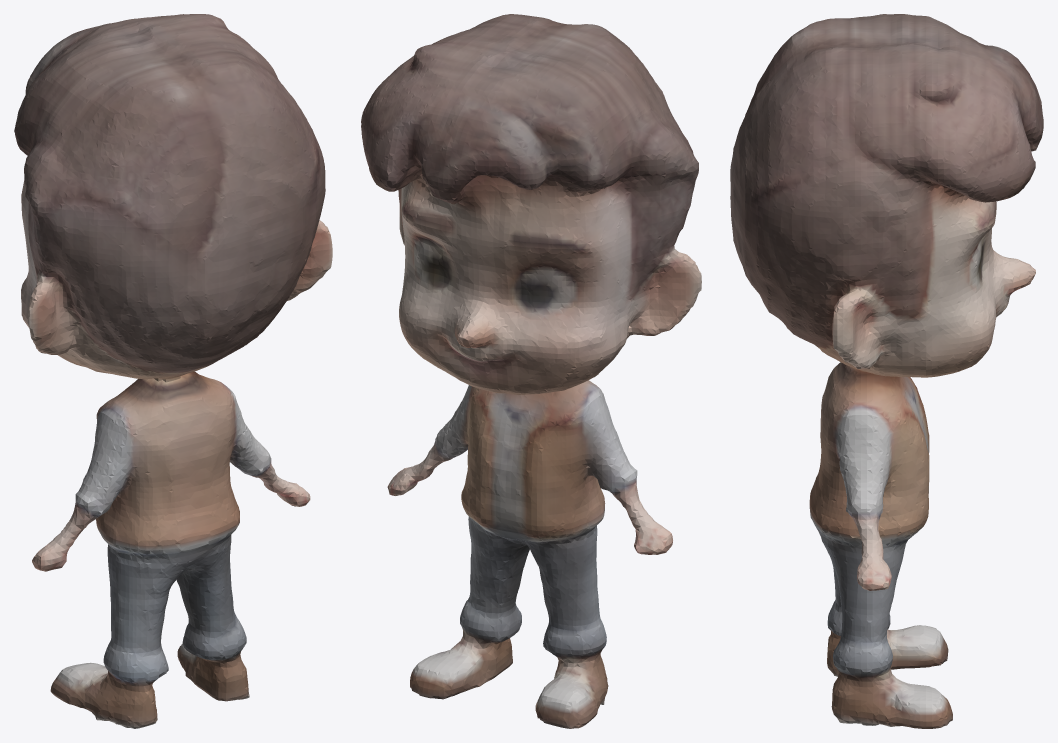
Rendered from 45Ll6iyTM9jp.png.glb.
The picture shows the model from 3 angles, left to right: view 1: azimuth 30°, elevation 25°; view 2: azimuth 150°, elevation 25°; view 3: azimuth 270°, elevation 25°; orthographic projection.
Parts seen in each view (by area): view 1: world; view 2: world; view 3: world.
Part boxes in pixels (x1=…): world: x1=14, y1=14, x2=332, y2=728; world: x1=361, y1=14, x2=701, y2=728; world: x1=730, y1=14, x2=1043, y2=728.
Size of the model in its own units: 0.9638 by 1.99 by 0.8676.
